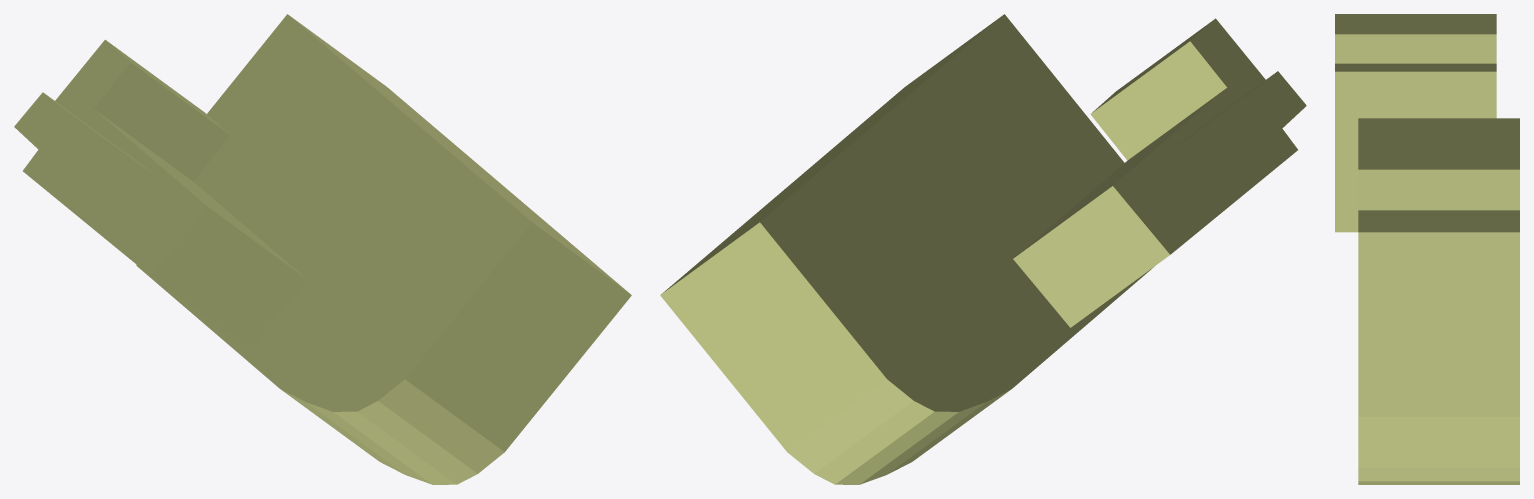
3 renders of one model, left to right at view 1: azimuth 30°, elevation 25°; view 2: azimuth 150°, elevation 25°; view 3: azimuth 270°, elevation 25°, orthographic. The views are drawn at different scales.
Visible parts, largest first — view 1: 0_0_1_1_3_3_3_2; view 2: 0_0_1_1_3_3_3_2; view 3: 0_0_1_1_3_3_3_2.
Part boxes in pixels (<box>): 0_0_1_1_3_3_3_2: <box>14,14,631,484</box>; 0_0_1_1_3_3_3_2: <box>660,14,1306,484</box>; 0_0_1_1_3_3_3_2: <box>1335,14,1519,484</box>.
Bounding box in the file's own units: 27.72 × 22.27 × 10.3.
